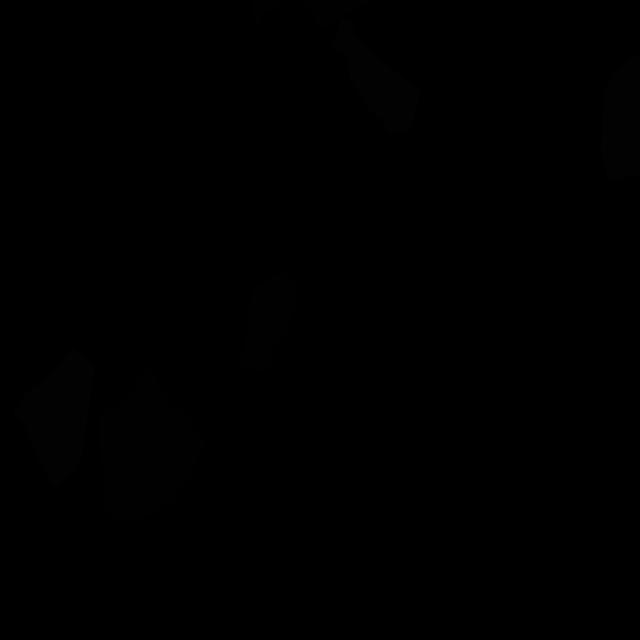cardboard: (12, 348, 95, 487), (332, 17, 420, 134), (600, 53, 640, 182)
rigid_plastic: (98, 365, 208, 522), (238, 273, 296, 374), (251, 0, 375, 31)
